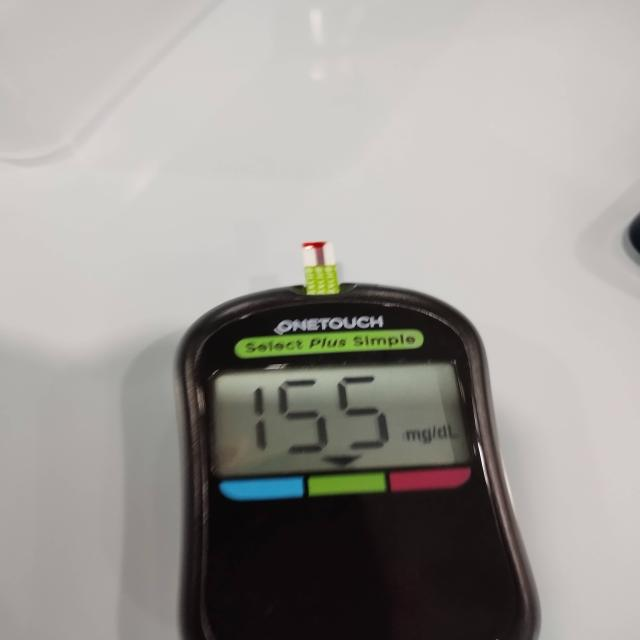gluco: (176, 242, 542, 640)
